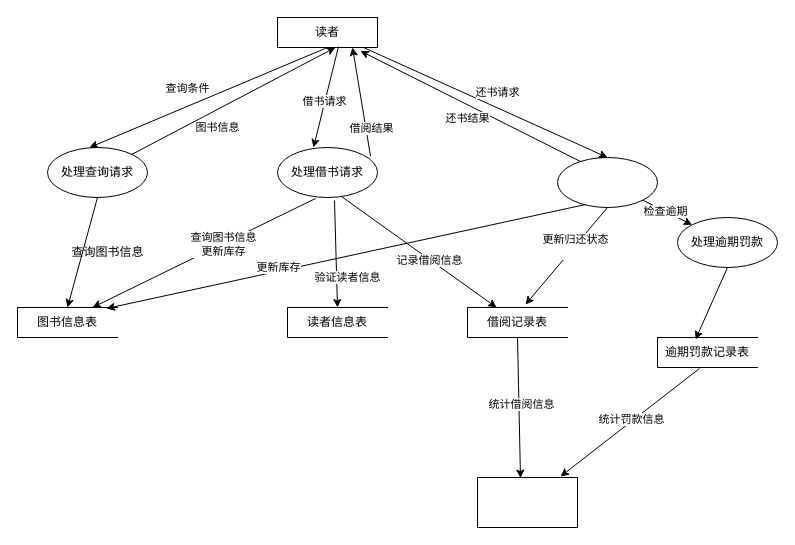
Image size: 795x545. Some labels were removed from this diagram. Each missing label, with the box of its shape:
处理还书请求: (556, 156, 658, 208)
管理员: (476, 476, 578, 528)
